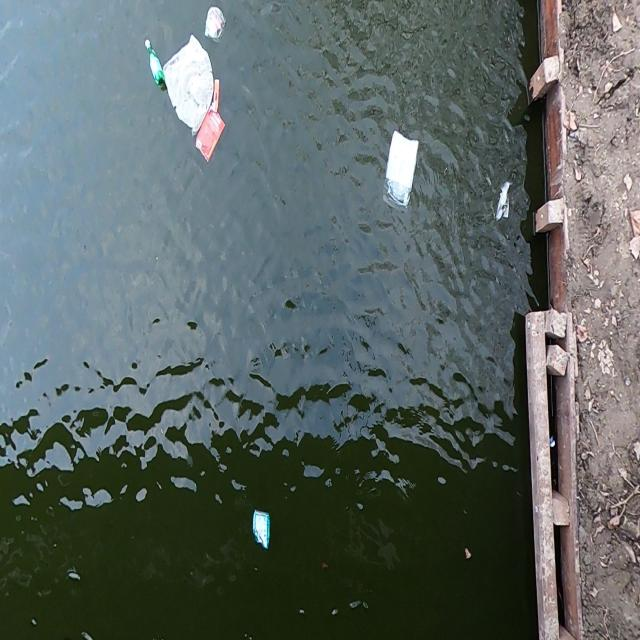Autre plastique: (191, 75, 230, 171)
Bouteille plastique: (144, 33, 166, 87)
Sac plastique: (160, 29, 216, 141), (382, 126, 422, 216), (496, 178, 516, 226), (202, 4, 228, 40)
